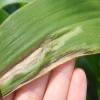Corn leaf blight: (1, 4, 98, 91)
